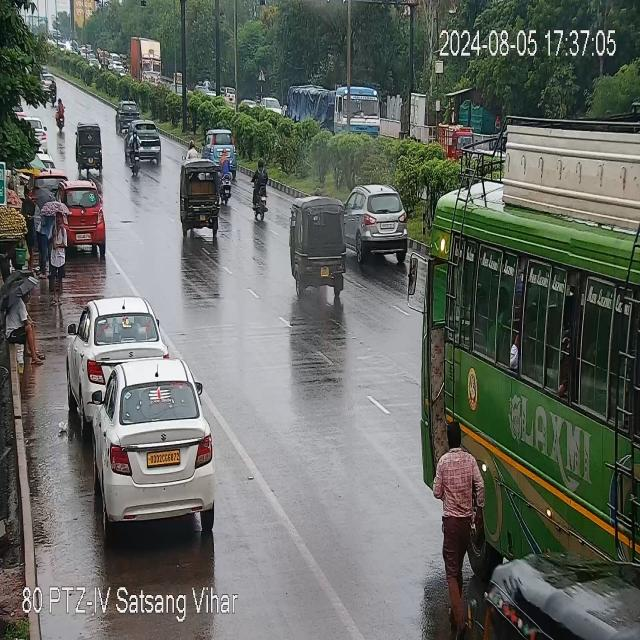2-wheelers: (250, 161, 270, 220), (218, 154, 235, 202), (128, 128, 142, 176), (55, 97, 65, 132), (186, 138, 200, 161), (51, 78, 56, 106)
auto: (292, 201, 349, 288), (182, 164, 222, 233), (437, 119, 467, 166), (75, 125, 106, 170)
bus: (419, 110, 640, 640)
car: (93, 358, 217, 528), (70, 296, 162, 409), (342, 184, 409, 263), (65, 188, 104, 251), (124, 118, 162, 164), (207, 131, 237, 168), (115, 97, 137, 130)
pedestrian: (437, 423, 484, 612), (2, 281, 47, 369), (52, 214, 66, 308), (38, 196, 48, 275), (24, 188, 34, 260)
truck: (292, 86, 388, 142), (130, 34, 160, 87)
